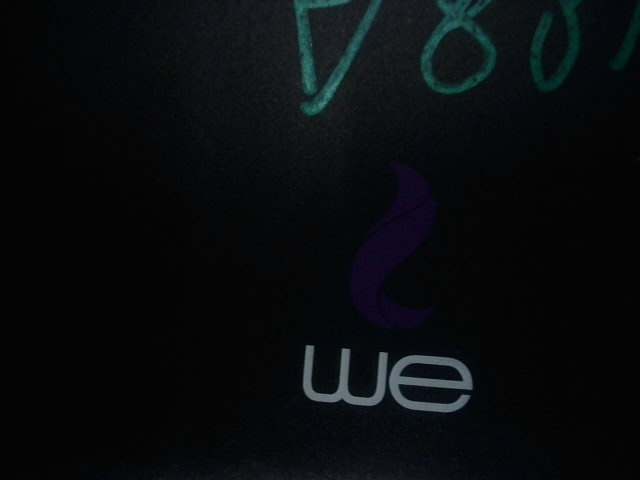AT_We: (297, 151, 490, 419)
